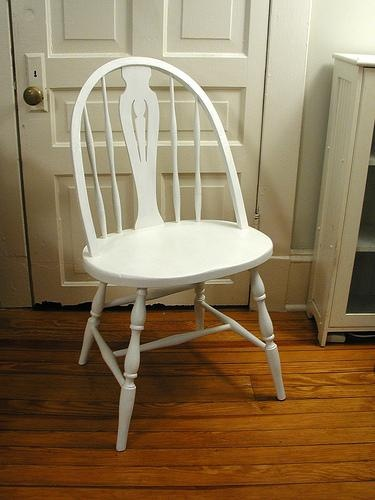obstacle: (71, 57, 284, 450)
